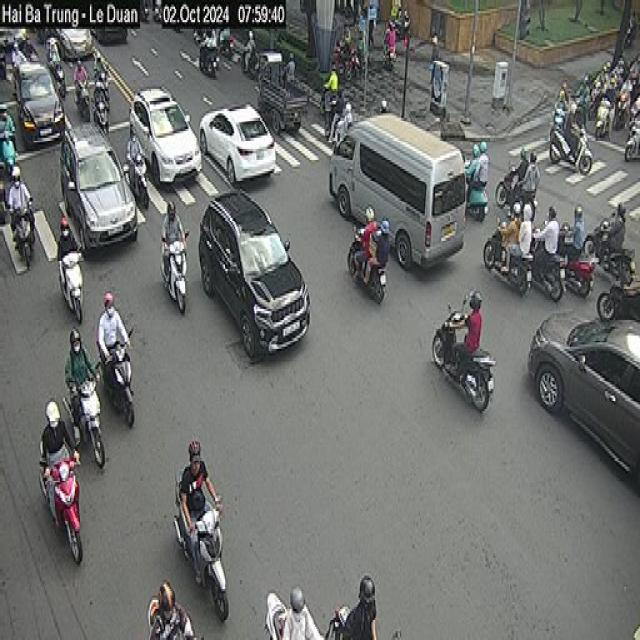car: (526, 289, 640, 497), (327, 109, 469, 272), (191, 182, 321, 355), (62, 122, 139, 240), (200, 94, 279, 186), (10, 64, 67, 147), (52, 4, 104, 59), (88, 0, 134, 51)
motorcycle: (171, 467, 238, 623), (436, 305, 498, 408), (37, 457, 88, 564), (61, 371, 112, 462), (94, 330, 140, 428), (342, 238, 391, 304), (587, 225, 631, 288), (54, 250, 90, 326), (494, 168, 542, 222), (254, 589, 298, 640), (561, 231, 594, 298), (538, 231, 565, 307), (598, 270, 640, 318), (9, 205, 38, 271), (125, 149, 153, 214), (551, 129, 593, 172), (163, 244, 189, 312), (326, 594, 355, 640), (468, 175, 491, 223), (0, 131, 19, 179), (317, 86, 342, 116), (198, 44, 222, 73), (613, 94, 630, 133), (331, 119, 351, 150), (379, 38, 397, 72), (94, 102, 112, 136), (75, 82, 91, 118), (600, 99, 614, 139), (216, 34, 236, 62), (625, 121, 640, 158), (239, 50, 257, 80), (344, 53, 363, 81), (392, 14, 414, 38), (588, 80, 602, 114), (333, 33, 346, 66), (576, 94, 588, 129), (96, 77, 112, 103), (551, 115, 569, 135)
person: (173, 437, 216, 540), (45, 386, 76, 495), (340, 573, 388, 640), (63, 322, 92, 427), (145, 584, 197, 640), (283, 576, 321, 640), (95, 293, 127, 362), (458, 286, 476, 375), (160, 192, 184, 257), (566, 196, 586, 264), (376, 203, 393, 281), (58, 212, 80, 270), (10, 164, 34, 214), (524, 145, 542, 204), (362, 203, 377, 265), (545, 205, 561, 263), (610, 193, 625, 254), (506, 193, 520, 256), (125, 112, 141, 164), (520, 200, 532, 260), (478, 128, 490, 188), (1, 101, 16, 144), (625, 256, 637, 305), (556, 81, 570, 119), (12, 41, 30, 70), (515, 143, 526, 188), (469, 140, 480, 184), (327, 63, 339, 101), (92, 80, 106, 112), (93, 51, 110, 77), (342, 96, 352, 136), (248, 33, 264, 58), (562, 77, 574, 106), (284, 53, 296, 82), (76, 59, 86, 88), (624, 74, 633, 106), (377, 100, 392, 116)
